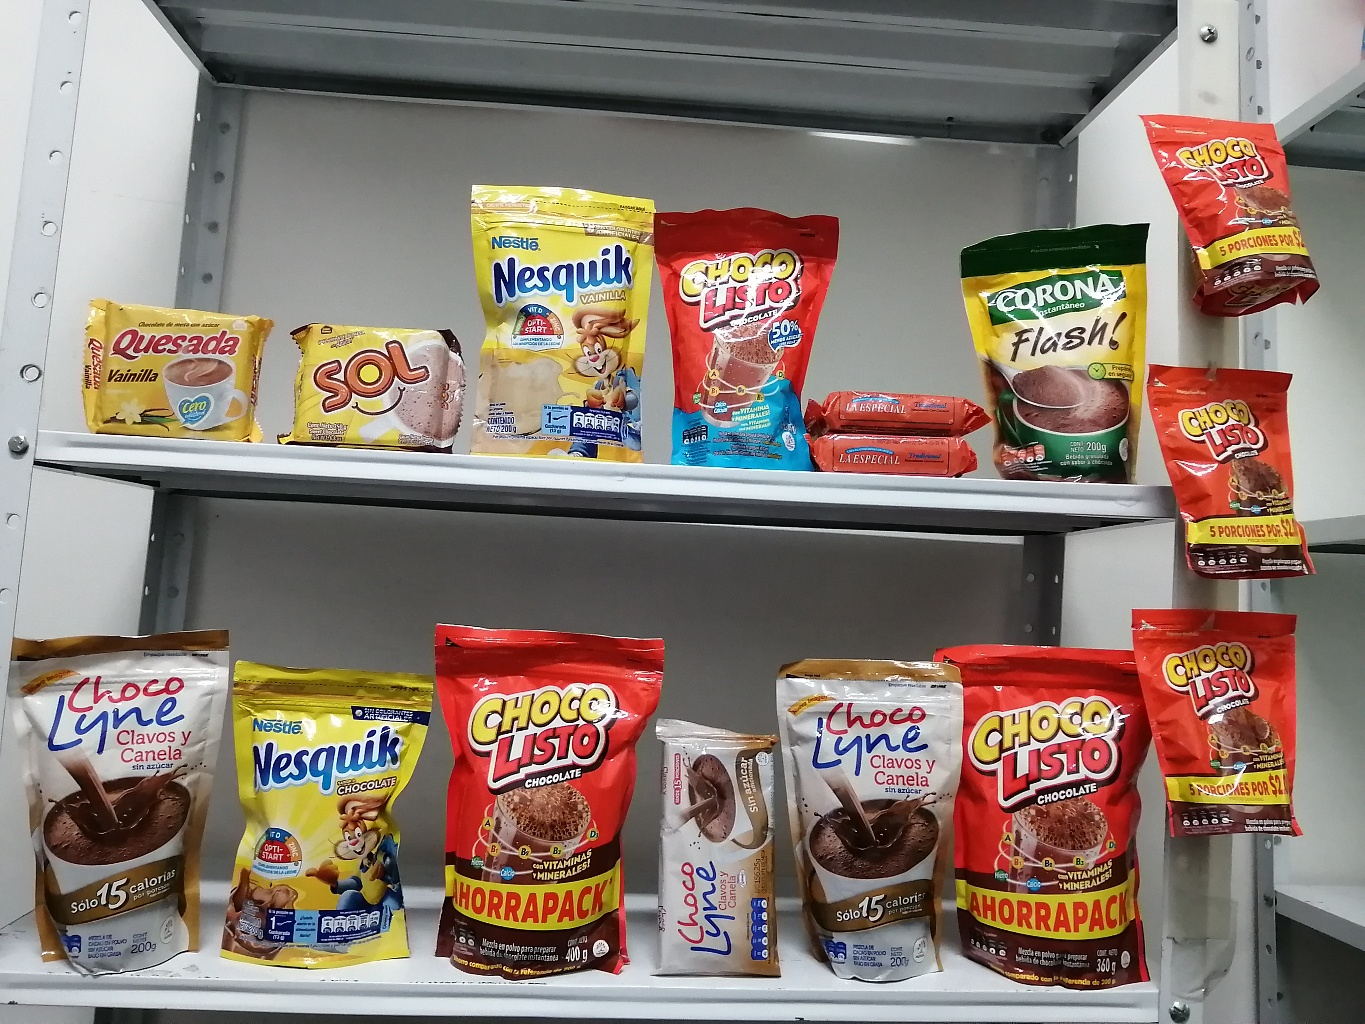COL0170103DYP10000: (1127, 598, 1317, 852)
COL0170103DYP36000: (943, 624, 1158, 991)
COL0170103DYP40000: (429, 607, 665, 979)
COL0170104DYP20000: (644, 191, 848, 480)
COL0170303DYP20000: (234, 648, 433, 975)
COL0170306DYP20000: (453, 163, 664, 460)
